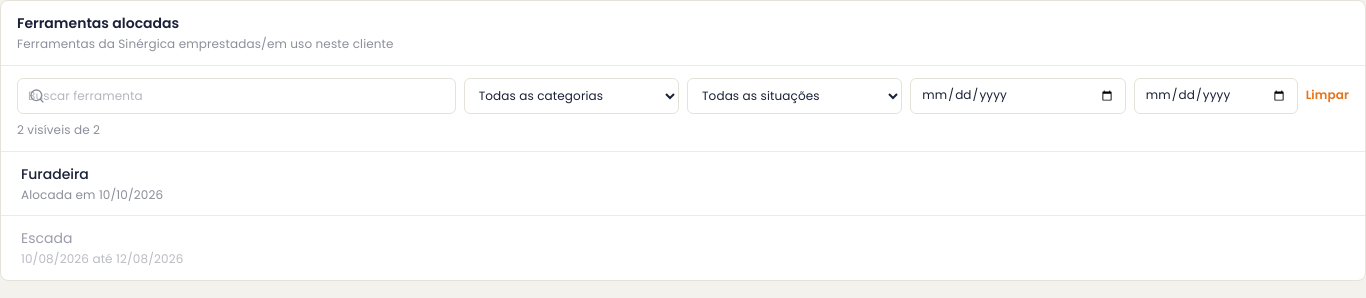
PainelFerramentasCliente — E01-S163 AC-19 › filtra por categoria, situação e período; mantém contagem e limpeza
Expected: the text "2 visíveis de 2" is shown, [17,121,100,138]
Select "Devolvidas" in the dropdown named "Filtrar ferramentas por situação". click: (795, 96)
box: [687,78,902,114]
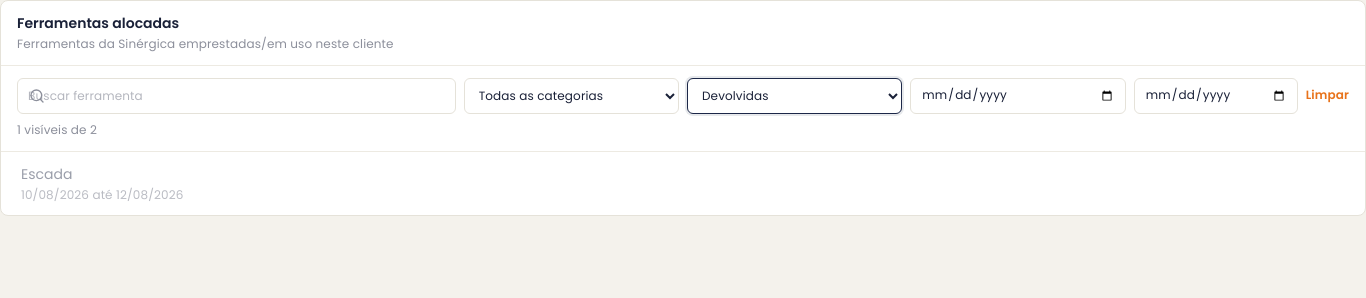
Expected: the text "Escada" is shown, [21,164,72,184]
Expected: the text "Furadeira" is gone
Expected: the text "1 visíveis de 2" is shown, [17,121,97,138]
Select "Elétrica" in the dropdown named "Filtrar ferramentas por categoria". click: (571, 96)
box: [464,78,679,114]
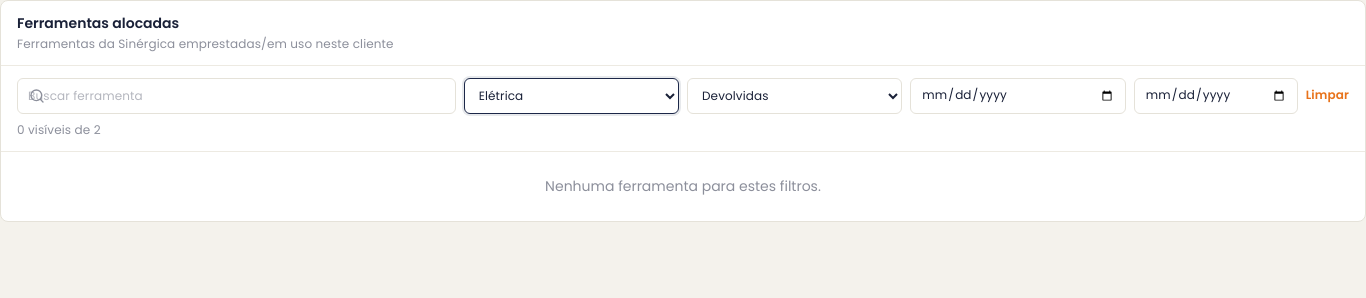
Expected: the text "Nenhuma ferramenta para estes filtros." is shown, [545,176,821,196]
Click the button "Limpar". click: (1327, 96)
box: [1306,87,1349,104]
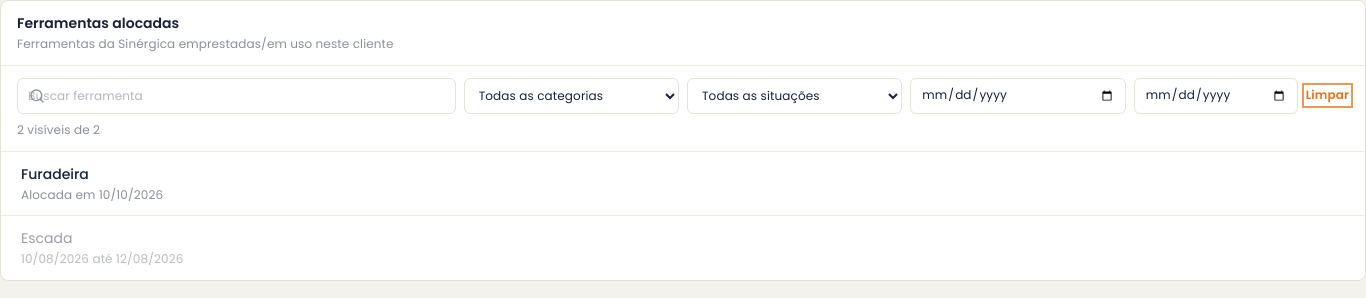
Expected: the text "Furadeira" is shown, [21,164,89,184]
Expected: the text "Escada" is shown, [21,228,72,248]
